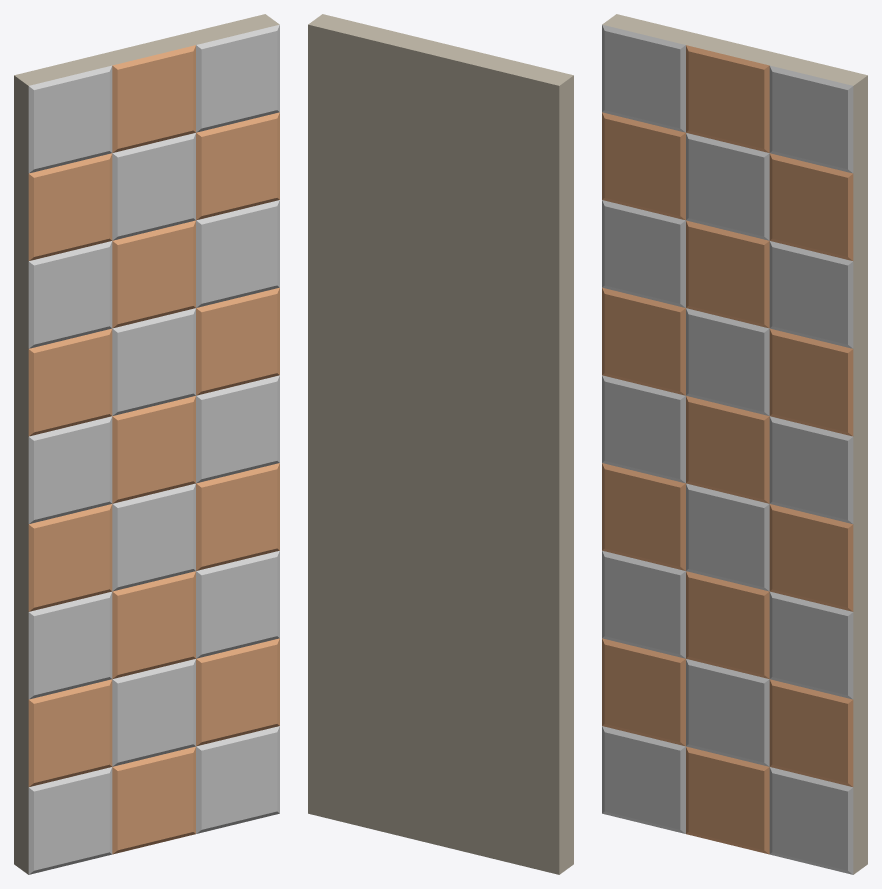
The model's file is Mesh_WallCeramic_F1.fbx.
3 views of the same model, side by side, from view 1: azimuth 30°, elevation 25°; view 2: azimuth 150°, elevation 25°; view 3: azimuth 330°, elevation 25° (orthographic).
Visible parts, largest first — view 1: Mesh_WallCeramic_F1; view 2: Mesh_WallCeramic_F1; view 3: Mesh_WallCeramic_F1.
Part boxes in pixels (x1,y1,x2,y2): Mesh_WallCeramic_F1: (14,14,279,874); Mesh_WallCeramic_F1: (308,14,573,874); Mesh_WallCeramic_F1: (602,14,867,874).
Size of the model in its own units: 1 by 3 by 0.1096.
